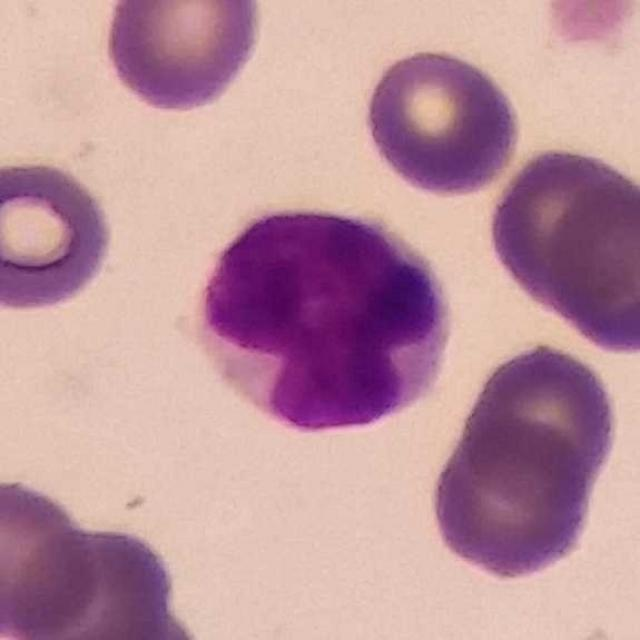Lymphocyte: (181, 192, 462, 448)
Platelets: (535, 0, 640, 57)
RBC: (424, 414, 602, 584), (483, 143, 639, 320), (456, 337, 624, 498), (358, 42, 526, 200), (7, 518, 193, 640), (97, 0, 268, 117), (0, 152, 120, 318), (542, 175, 639, 357), (0, 472, 101, 639), (35, 604, 214, 640)
